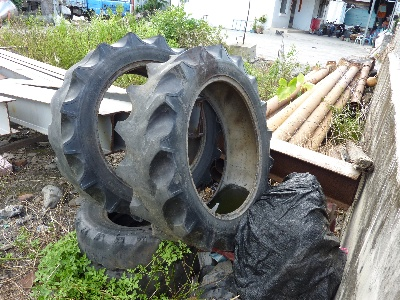plastic_bag: (236, 171, 346, 300)
tire: (48, 32, 215, 221), (116, 44, 273, 243), (75, 202, 161, 269)
